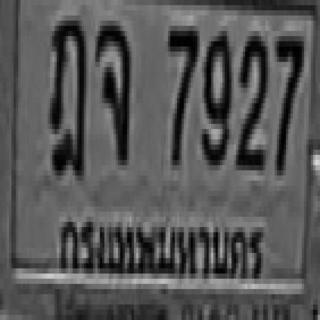A08: (93, 16, 129, 160)
A14: (48, 16, 84, 176)
N02: (234, 31, 266, 165)
N07: (166, 21, 197, 160), (275, 31, 302, 170)
N09: (200, 26, 229, 160)
P04: (58, 203, 270, 292)
